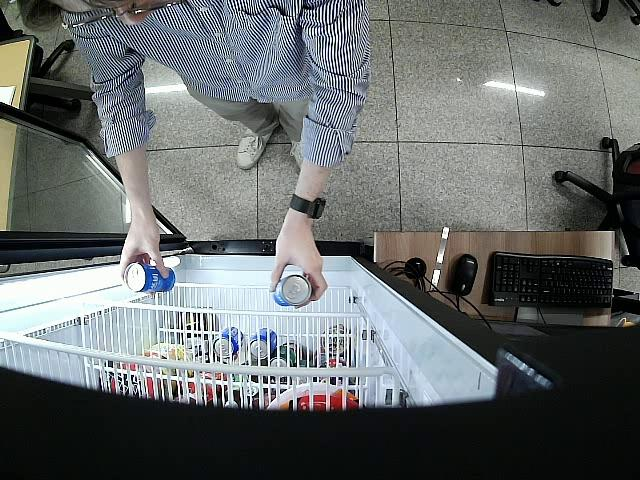00_hand: (268, 222, 329, 309), (122, 226, 170, 283)
15_letsbe: (123, 262, 175, 294), (273, 273, 311, 309)
